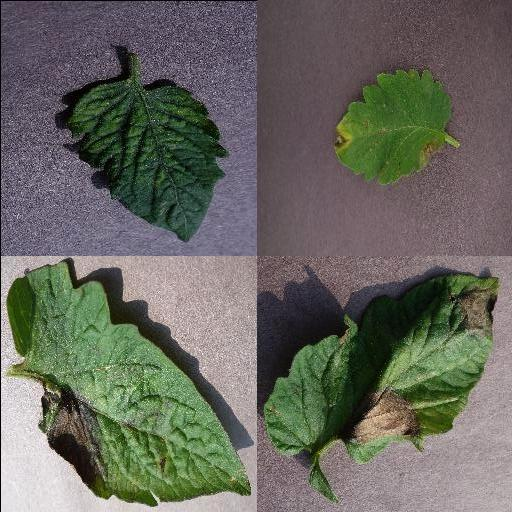Late Blight: (5, 259, 253, 507), (262, 272, 500, 464), (330, 67, 452, 185)
Mosaic Virus: (62, 78, 228, 244)
